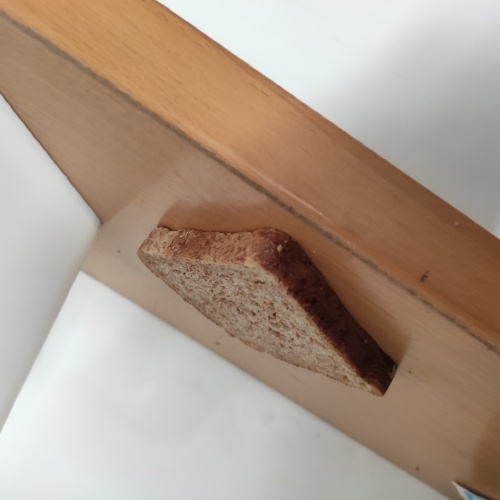pane: (138, 207, 403, 396)
